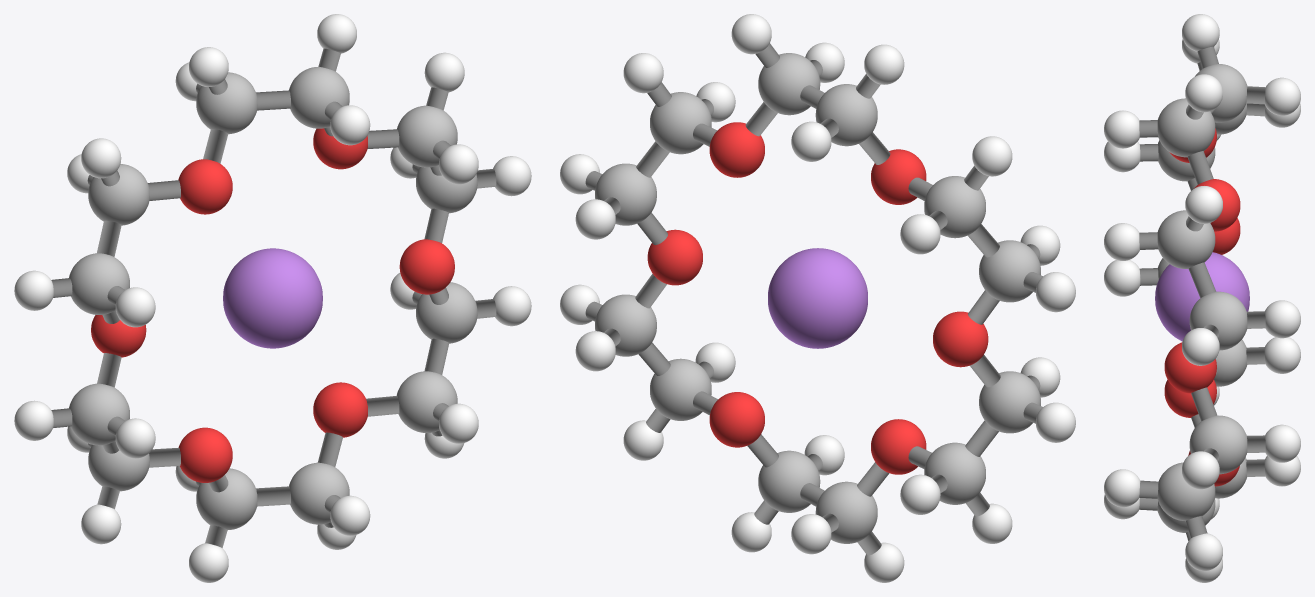
Rendered from potassium.glb.
The picture shows the model from 3 angles, left to right: view 1: azimuth 30°, elevation 25°; view 2: azimuth 150°, elevation 25°; view 3: azimuth 270°, elevation 25°; orthographic projection. The views are drawn at different scales.
Visible parts, largest first — view 1: Object_3, Object_9, Object_8, Object_5, Object_6, Object_2, Object_4, Object_7; view 2: Object_3, Object_9, Object_8, Object_6, Object_5, Object_2, Object_4, Object_7; view 3: Object_3, Object_6, Object_5, Object_9, Object_7, Object_8, Object_2, Object_4.
Boxes of the visible parts, <box> form: Object_3: <box>69,66,477,529</box>; Object_9: <box>51,48,496,547</box>; Object_8: <box>91,128,454,482</box>; Object_5: <box>14,52,531,544</box>; Object_6: <box>81,47,531,582</box>; Object_2: <box>223,248,322,348</box>; Object_4: <box>69,282,477,445</box>; Object_7: <box>317,14,478,443</box>; Object_3: <box>595,53,1040,543</box>; Object_9: <box>585,43,1042,555</box>; Object_8: <box>647,122,988,474</box>; Object_6: <box>560,44,1012,582</box>; Object_5: <box>560,53,1075,543</box>; Object_2: <box>768,248,867,348</box>; Object_4: <box>595,294,1040,433</box>; Object_7: <box>575,14,844,382</box>; Object_3: <box>1157,64,1247,532</box>; Object_6: <box>1104,14,1300,582</box>; Object_5: <box>1104,103,1300,405</box>; Object_9: <box>1139,46,1265,540</box>; Object_7: <box>1104,74,1300,507</box>; Object_8: <box>1164,128,1240,486</box>; Object_2: <box>1155,252,1249,341</box>; Object_4: <box>1158,258,1247,474</box>.
Size of the model in its own units: 9.69 by 9.66 by 3.41.
